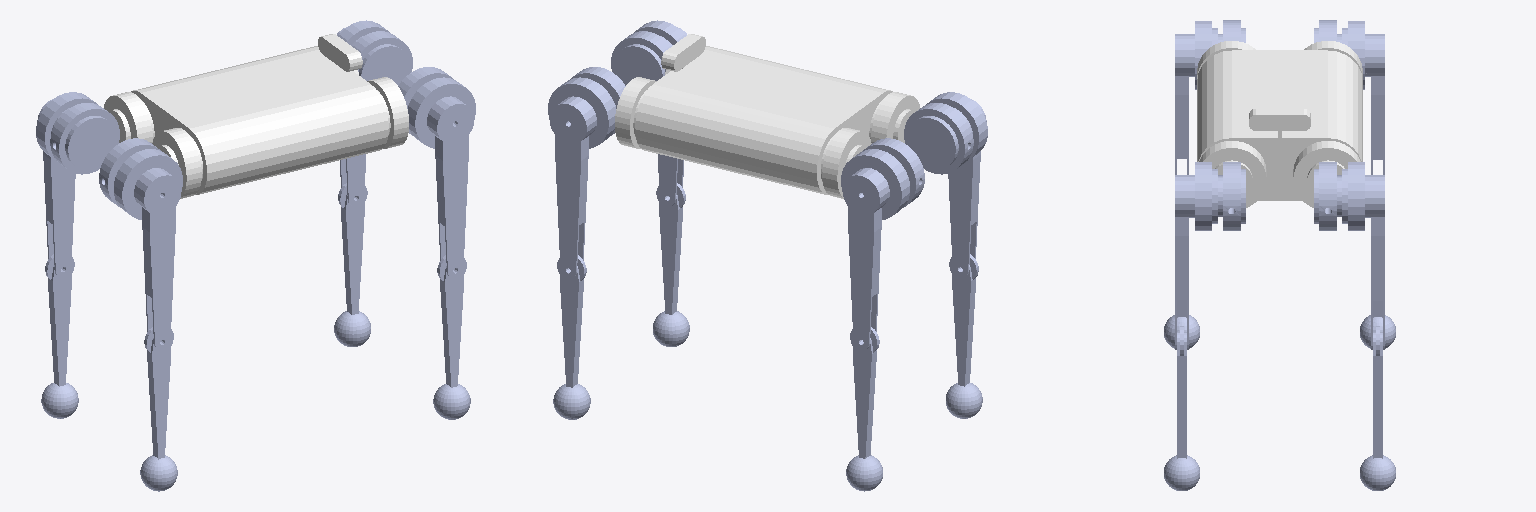
--- Render facts (derived) ---
3 views of the same robot in one strip: view 1: azimuth 30°, elevation 25°; view 2: azimuth 150°, elevation 25°; view 3: azimuth 270°, elevation 25° (orthographic).
Model quadruped with 17 links and 16 joints (12 continuous, 4 fixed), rooted at base_link, posed all joints at 0.
Links seen in each view (by area): view 1: base_link, RbL2, RfL2, LbL2, LbL1, LfL1, RfL3, RbL3, LbL3, LfL3, LfL2, LfL4 (+5 smaller); view 2: base_link, LbL2, LfL2, RbL2, RbL1, RfL1, LbL3, RbL3, RfL3, LfL4, RfL2, LfL3 (+5 smaller); view 3: base_link, LfL2, RfL2, LbL2, RbL2, RfL1, LfL1, LfL3, RfL3, RfL4, LfL4, RbL4 (+1 smaller).
Boxes of the visible links, box(x1,y1,x2,y2) form: base_link: box(104, 34, 408, 198); RbL2: box(114, 149, 182, 350); RfL2: box(408, 77, 475, 278); LbL2: box(36, 92, 97, 277); LbL1: box(50, 103, 119, 174); LfL1: box(352, 31, 412, 85); RfL3: box(434, 263, 469, 419); RbL3: box(141, 330, 176, 491); LbL3: box(42, 260, 77, 418); LfL3: box(334, 186, 370, 346); LfL2: box(337, 20, 389, 205); LfL4: box(334, 183, 370, 337); base_link: box(615, 34, 919, 198); LbL2: box(841, 149, 909, 350); LfL2: box(548, 77, 615, 278); RbL2: box(926, 92, 987, 277); RbL1: box(904, 103, 973, 174); RfL1: box(611, 31, 671, 85); LbL3: box(847, 331, 882, 491); RbL3: box(946, 257, 981, 418); RfL3: box(653, 186, 688, 346); LfL4: box(553, 255, 590, 410); RfL2: box(634, 20, 686, 205); LfL3: box(553, 259, 589, 419); base_link: box(1197, 41, 1362, 207); LfL2: box(1342, 162, 1384, 349); RfL2: box(1175, 162, 1217, 349); LbL2: box(1342, 21, 1384, 174); RbL2: box(1175, 21, 1217, 174); RfL1: box(1218, 162, 1245, 230); LfL1: box(1314, 162, 1341, 230); LfL3: box(1360, 350, 1395, 490); RfL3: box(1164, 350, 1199, 490); RfL4: box(1164, 326, 1199, 481); LfL4: box(1360, 326, 1395, 481); RbL4: box(1164, 315, 1199, 339).
Bounding box of the posed robot: 0.545 × 0.3142 × 0.519 m (x, y, z).
Meshes: 17 distinct files referenced, 17 mesh visuals loaded (17 binary STL).

The robot description file, URDF, robot "quadruped":
<?xml version="1.0" encoding="utf-8"?>
<!-- This URDF was automatically created by SolidWorks to URDF Exporter! Originally created by Stephen Brawner ([email redacted]) 
     Commit Version: 1.6.0-4-g7f85cfe  Build Version: 1.6.7995.38578
     For more information, please see http://wiki.ros.org/sw_urdf_exporter -->
<robot
  name="quadruped">
  <link
    name="base_link">
    <inertial>
      <origin
        xyz="0.00084087 -3.4694E-18 0.0034489"
        rpy="0 0 0" />
      <mass
        value="16" />
      <inertia
        ixx="1"  
        ixy="0"
        ixz="0"
        iyy="1"
        iyz="0"
        izz="1" />
    </inertial>
    <visual>
      <origin
        xyz="0 0 0"
        rpy="0 0 0" />
      <geometry>
        <mesh
          filename="package://quadruped/meshes/base_link.STL" />
      </geometry>
      <material
        name="">
        <color
          rgba="1 1 1 1" />
      </material>
    </visual>
    <collision>
      <origin
        xyz="0 0 0"
        rpy="0 0 0" />
      <geometry>
        <mesh
          filename="package://quadruped/meshes/base_link.STL" />
      </geometry>
    </collision>
  </link>
  <link
    name="RfL1">
    <inertial>
      <origin
        xyz="-1.4632E-09 0.0013606 -2.1089E-09"
        rpy="0 0 0" />
      <mass
        value="0.2020892" />
      <inertia
        ixx="0.2"
        ixy="0"
        ixz="0"
        iyy="0.2"
        iyz="0"
        izz="0.2" />
    </inertial>
    <visual>
      <origin
        xyz="0 0 0"
        rpy="0 0 0" />
      <geometry>
        <mesh
          filename="package://quadruped/meshes/RfL1.STL" />
      </geometry>
      <material
        name="">
        <color
          rgba="0.79216 0.81961 0.93333 1" />
      </material>
    </visual>
    <collision>
      <origin
        xyz="0 0 0"
        rpy="0 0 0" />
      <geometry>
        <mesh
          filename="package://quadruped/meshes/RfL1.STL" />
      </geometry>
    </collision>
  </link>
  <joint
    name="RfJ1"
    type="continuous">
    <origin
      xyz="0.2255 -0.065 0.003"
      rpy="0 0 0" />
    <parent
      link="base_link" />
    <child
      link="RfL1" />
    <axis
      xyz="1 0 0" />
          <limit
      lower="-6"
      upper="6"
      effort="100"
      velocity="10" />
                 <dynamics
      damping="1"
       friction="0.01"
    />
  </joint>
  <link
    name="RfL2">
    <inertial>
      <origin
        xyz="-4.3615E-06 0.017625 -0.026198"
        rpy="0 0 0" />
      <mass
        value="0.203684" />
      <inertia
        ixx="0.2"
        ixy="0"
        ixz="0"
        iyy="0.2"
        iyz="0"
        izz="0.2" />
    </inertial>
    <visual>
      <origin
        xyz="0 0 0"
        rpy="0 0 0" />
      <geometry>
        <mesh
          filename="package://quadruped/meshes/RfL2.STL" />
      </geometry>
      <material
        name="">
        <color
          rgba="0.79216 0.81961 0.93333 1" />
      </material>
    </visual>
    <collision>
      <origin
        xyz="0 0 0"
        rpy="0 0 0" />
      <geometry>
        <mesh
          filename="package://quadruped/meshes/RfL2.STL" />
      </geometry>
    </collision>
  </link>
  <joint
    name="RfJ2"
    type="continuous">
    <origin
      xyz="0 -0.06725 0"
      rpy="0 0 0" />
    <parent
      link="RfL1" />
    <child
      link="RfL2" />
    <axis
      xyz="0 1 0" />
          <limit
      lower="-6"
      upper="6"
      effort="100"
      velocity="10" />
                 <dynamics
      damping="1"
       friction="0.01"
    />
  </joint>
  <link
    name="RfL3">
    <inertial>
      <origin
        xyz="-8.3225E-05 -1.7847E-14 -0.13449"
        rpy="0 0 0" />
      <mass
        value="0.2012147" />
      <inertia
        ixx="0.2"
        ixy="0"
        ixz="0"
        iyy="0.2"
        iyz="0"
        izz="0.2" />
    </inertial>
    <visual>
      <origin
        xyz="0 0 0"
        rpy="0 0 0" />
      <geometry>
        <mesh
          filename="package://quadruped/meshes/RfL3.STL" />
      </geometry>
      <material
        name="">
        <color
          rgba="0.79216 0.81961 0.93333 1" />
      </material>
    </visual>
    <collision>
      <origin
        xyz="0 0 0"
        rpy="0 0 0" />
      <geometry>
        <mesh
          filename="package://quadruped/meshes/RfL3.STL" />
      </geometry>
    </collision>
  </link>
  <joint
    name="RfJ3"
    type="continuous">
    <origin
      xyz="0 0 -0.216"
      rpy="0 0 0" />
    <parent
      link="RfL2" />
    <child
      link="RfL3" />
    <axis
      xyz="0 -1 0" />
          <limit
      lower="-6"
      upper="6"
      effort="100"
      velocity="10" />
                 <dynamics
      damping="1"
       friction="0.01"
    />
  </joint>
  <link
    name="RfL4">
    <inertial>
      <origin
        xyz="3.8349E-05 -1.7777E-14 0.061968"
        rpy="0 0 0" />
      <mass
        value="0.2012147" />
      <inertia
        ixx="0.2"
        ixy="0"
        ixz="0"
        iyy="0.2"
        iyz="0"
        izz="0.2" />
    </inertial>
    <visual>
      <origin
        xyz="0 0 0"
        rpy="0 0 0" />
      <geometry>
        <mesh
          filename="package://quadruped/meshes/RfL4.STL" />
      </geometry>
      <material
        name="">
        <color
          rgba="0.79216 0.81961 0.93333 1" />
      </material>
    </visual>
    <collision>
      <origin
        xyz="0 0 0"
        rpy="0 0 0" />
      <geometry>
        <mesh
          filename="package://quadruped/meshes/RfL4.STL" />
      </geometry>
    </collision>
  </link>
  <joint
    name="RfJ4"
    type="fixed">
    <origin
      xyz="-0.00012157 0 -0.19645"
      rpy="0 0 0" />
    <parent
      link="RfL3" />
    <child
      link="RfL4" />
    <axis
      xyz="0 0 0" />
          <limit
      lower="-6"
      upper="6"
      effort="100"
      velocity="10" />
                 <dynamics
      damping="1"
       friction="0.01"
    />
  </joint>
  <link
    name="LfL1">
    <inertial>
      <origin
        xyz="-1.4632E-09 -0.0013606 2.1089E-09"
        rpy="0 0 0" />
      <mass
        value="0.2020892" />
      <inertia
        ixx="0.2"
        ixy="0"
        ixz="0"
        iyy="0.2"
        iyz="0"
        izz="0.2" />
    </inertial>
    <visual>
      <origin
        xyz="0 0 0"
        rpy="0 0 0" />
      <geometry>
        <mesh
          filename="package://quadruped/meshes/LfL1.STL" />
      </geometry>
      <material
        name="">
        <color
          rgba="0.79216 0.81961 0.93333 1" />
      </material>
    </visual>
    <collision>
      <origin
        xyz="0 0 0"
        rpy="0 0 0" />
      <geometry>
        <mesh
          filename="package://quadruped/meshes/LfL1.STL" />
      </geometry>
    </collision>
  </link>
  <joint
    name="LfJ1"
    type="continuous">
    <origin
      xyz="0.2255 0.065 0.003"
      rpy="0 0 0" />
    <parent
      link="base_link" />
    <child
      link="LfL1" />
    <axis
      xyz="1 0 0" />
          <limit
      lower="-6"
      upper="6"
      effort="100"
      velocity="10" />
                 <dynamics
      damping="1"
       friction="0.01"
    />
  </joint>
  <link
    name="LfL2">
    <inertial>
      <origin
        xyz="4.3615E-06 -0.017625 -0.026198"
        rpy="0 0 0" />
      <mass
        value="0.203684" />
      <inertia
        ixx="0.2"
        ixy="0"
        ixz="0"
        iyy="0.2"
        iyz="0"
        izz="0.2" />
    </inertial>
    <visual>
      <origin
        xyz="0 0 0"
        rpy="0 0 0" />
      <geometry>
        <mesh
          filename="package://quadruped/meshes/LfL2.STL" />
      </geometry>
      <material
        name="">
        <color
          rgba="0.79216 0.81961 0.93333 1" />
      </material>
    </visual>
    <collision>
      <origin
        xyz="0 0 0"
        rpy="0 0 0" />
      <geometry>
        <mesh
          filename="package://quadruped/meshes/LfL2.STL" />
      </geometry>
    </collision>
  </link>
  <joint
    name="LfJ2"
    type="continuous">
    <origin
      xyz="0 0.06725 0"
      rpy="0 0 0" />
    <parent
      link="LfL1" />
    <child
      link="LfL2" />
    <axis
      xyz="0 -1 0" />
          <limit
      lower="-6"
      upper="6"
      effort="100"
      velocity="10" />
                 <dynamics
      damping="1"
       friction="0.01"
    />
  </joint>
  <link
    name="LfL3">
    <inertial>
      <origin
        xyz="-0.00015249 -3.3556E-14 -0.13449"
        rpy="0 0 0" />
      <mass
        value="0.2012147" />
      <inertia
        ixx="0.2"
        ixy="0"
        ixz="0"
        iyy="0.2"
        iyz="0"
        izz="0.2" />
    </inertial>
    <visual>
      <origin
        xyz="0 0 0"
        rpy="0 0 0" />
      <geometry>
        <mesh
          filename="package://quadruped/meshes/LfL3.STL" />
      </geometry>
      <material
        name="">
        <color
          rgba="0.79216 0.81961 0.93333 1" />
      </material>
    </visual>
    <collision>
      <origin
        xyz="0 0 0"
        rpy="0 0 0" />
      <geometry>
        <mesh
          filename="package://quadruped/meshes/LfL3.STL" />
      </geometry>
    </collision>
  </link>
  <joint
    name="LfJ3"
    type="continuous">
    <origin
      xyz="0 0 -0.216"
      rpy="0 0 0" />
    <parent
      link="LfL2" />
    <child
      link="LfL3" />
    <axis
      xyz="0 1 0" />
          <limit
      lower="-6"
      upper="6"
      effort="100"
      velocity="10" />
                 <dynamics
      damping="1"
       friction="0.01"
    />
  </joint>
  <link
    name="LfL4">
    <inertial>
      <origin
        xyz="7.0263E-05 -3.2113E-14 0.061968"
        rpy="0 0 0" />
      <mass
        value="0.2012147" />
      <inertia
        ixx="0.2"
        ixy="0"
        ixz="0"
        iyy="0.2"
        iyz="0"
        izz="0.2" />
    </inertial>
    <visual>
      <origin
        xyz="0 0 0"
        rpy="0 0 0" />
      <geometry>
        <mesh
          filename="package://quadruped/meshes/LfL4.STL" />
      </geometry>
      <material
        name="">
        <color
          rgba="0.79216 0.81961 0.93333 1" />
      </material>
    </visual>
    <collision>
      <origin
        xyz="0 0 0"
        rpy="0 0 0" />
      <geometry>
        <mesh
          filename="package://quadruped/meshes/LfL4.STL" />
      </geometry>
    </collision>
  </link>
  <joint
    name="LfJ4"
    type="fixed">
    <origin
      xyz="-0.00022275 0 -0.19645"
      rpy="0 0 0" />
    <parent
      link="LfL3" />
    <child
      link="LfL4" />
    <axis
      xyz="0 0 0" />
          <limit
      lower="-6"
      upper="6"
      effort="100"
      velocity="10" />
                 <dynamics
      damping="1"
       friction="0.01"
    />
  </joint>
  <link
    name="RbL1">
    <inertial>
      <origin
        xyz="1.4632E-09 0.0013606 2.1089E-09"
        rpy="0 0 0" />
      <mass
        value="0.2020892" />
      <inertia
        ixx="0.2"
        ixy="0"
        ixz="0"
        iyy="0.2"
        iyz="0"
        izz="0.2" />
    </inertial>
    <visual>
      <origin
        xyz="0 0 0"
        rpy="0 0 0" />
      <geometry>
        <mesh
          filename="package://quadruped/meshes/RbL1.STL" />
      </geometry>
      <material
        name="">
        <color
          rgba="0.79216 0.81961 0.93333 1" />
      </material>
    </visual>
    <collision>
      <origin
        xyz="0 0 0"
        rpy="0 0 0" />
      <geometry>
        <mesh
          filename="package://quadruped/meshes/RbL1.STL" />
      </geometry>
    </collision>
  </link>
  <joint
    name="RbJ1"
    type="continuous">
    <origin
      xyz="-0.2255 -0.065 0.003"
      rpy="0 0 0" />
    <parent
      link="base_link" />
    <child
      link="RbL1" />
    <axis
      xyz="-1 0 0" />
          <limit
      lower="-6"
      upper="6"
      effort="100"
      velocity="10" />
                 <dynamics
      damping="1"
       friction="0.01"
    />
  </joint>
  <link
    name="RbL2">
    <inertial>
      <origin
        xyz="-4.3615E-06 0.017625 -0.026198"
        rpy="0 0 0" />
      <mass
        value="0.203684" />
      <inertia
        ixx="0.2"
        ixy="0"
        ixz="0"
        iyy="0.2"
        iyz="0"
        izz="0.2" />
    </inertial>
    <visual>
      <origin
        xyz="0 0 0"
        rpy="0 0 0" />
      <geometry>
        <mesh
          filename="package://quadruped/meshes/RbL2.STL" />
      </geometry>
      <material
        name="">
        <color
          rgba="0.79216 0.81961 0.93333 1" />
      </material>
    </visual>
    <collision>
      <origin
        xyz="0 0 0"
        rpy="0 0 0" />
      <geometry>
        <mesh
          filename="package://quadruped/meshes/RbL2.STL" />
      </geometry>
    </collision>
  </link>
  <joint
    name="RbJ2"
    type="continuous">
    <origin
      xyz="0 -0.06725 0"
      rpy="0 0 0" />
    <parent
      link="RbL1" />
    <child
      link="RbL2" />
    <axis
      xyz="0 1 0" />
          <limit
      lower="-6"
      upper="6"
      effort="100"
      velocity="10" />
                 <dynamics
      damping="1"
       friction="0.01"
    />
  </joint>
  <link
    name="RbL3">
    <inertial>
      <origin
        xyz="-4.4688E-05 -9.4924E-15 -0.13449"
        rpy="0 0 0" />
      <mass
        value="0.2012147" />
      <inertia
        ixx="0.2"
        ixy="0"
        ixz="0"
        iyy="0.2"
        iyz="0"
        izz="0.2" />
    </inertial>
    <visual>
      <origin
        xyz="0 0 0"
        rpy="0 0 0" />
      <geometry>
        <mesh
          filename="package://quadruped/meshes/RbL3.STL" />
      </geometry>
      <material
        name="">
        <color
          rgba="0.79216 0.81961 0.93333 1" />
      </material>
    </visual>
    <collision>
      <origin
        xyz="0 0 0"
        rpy="0 0 0" />
      <geometry>
        <mesh
          filename="package://quadruped/meshes/RbL3.STL" />
      </geometry>
    </collision>
  </link>
  <joint
    name="RbJ3"
    type="continuous">
    <origin
      xyz="0 0 -0.216"
      rpy="0 0 0" />
    <parent
      link="RbL2" />
    <child
      link="RbL3" />
    <axis
      xyz="0 -1 0" />
          <limit
      lower="-6"
      upper="6"
      effort="100"
      velocity="10" />
                 <dynamics
      damping="1"
       friction="0.01"
    />
  </joint>
  <link
    name="RbL4">
    <inertial>
      <origin
        xyz="2.0591E-05 -9.5618E-15 0.061968"
        rpy="0 0 0" />
      <mass
        value="0.2012147" />
      <inertia
        ixx="0.2"
        ixy="0"
        ixz="0"
        iyy="0.2"
        iyz="0"
        izz="0.2" />
    </inertial>
    <visual>
      <origin
        xyz="0 0 0"
        rpy="0 0 0" />
      <geometry>
        <mesh
          filename="package://quadruped/meshes/RbL4.STL" />
      </geometry>
      <material
        name="">
        <color
          rgba="0.79216 0.81961 0.93333 1" />
      </material>
    </visual>
    <collision>
      <origin
        xyz="0 0 0"
        rpy="0 0 0" />
      <geometry>
        <mesh
          filename="package://quadruped/meshes/RbL4.STL" />
      </geometry>
    </collision>
  </link>
  <joint
    name="RbJ4"
    type="fixed">
    <origin
      xyz="-6.528E-05 0 -0.19645"
      rpy="0 0 0" />
    <parent
      link="RbL3" />
    <child
      link="RbL4" />
    <axis
      xyz="0 0 0" />
          <limit
      lower="-6"
      upper="6"
      effort="100"
      velocity="10" />
                 <dynamics
      damping="1"
       friction="0.01"
    />
  </joint>
  <link
    name="LbL1">
    <inertial>
      <origin
        xyz="1.4632E-09 -0.0013606 -2.1089E-09"
        rpy="0 0 0" />
      <mass
        value="0.2020892" />
      <inertia
        ixx="0.2"
        ixy="0"
        ixz="0"
        iyy="0.2"
        iyz="0"
        izz="0.2" />
    </inertial>
    <visual>
      <origin
        xyz="0 0 0"
        rpy="0 0 0" />
      <geometry>
        <mesh
          filename="package://quadruped/meshes/LbL1.STL" />
      </geometry>
      <material
        name="">
        <color
          rgba="0.79216 0.81961 0.93333 1" />
      </material>
    </visual>
    <collision>
      <origin
        xyz="0 0 0"
        rpy="0 0 0" />
      <geometry>
        <mesh
          filename="package://quadruped/meshes/LbL1.STL" />
      </geometry>
    </collision>
  </link>
  <joint
    name="LbJ1"
    type="continuous">
    <origin
      xyz="-0.2255 0.065 0.003"
      rpy="0 0 0" />
    <parent
      link="base_link" />
    <child
      link="LbL1" />
    <axis
      xyz="-1 0 0" />
          <limit
      lower="-6"
      upper="6"
      effort="100"
      velocity="10" />
                 <dynamics
      damping="1"
       friction="0.01"
    />
  </joint>
  <link
    name="LbL2">
    <inertial>
      <origin
        xyz="4.3615E-06 -0.017625 -0.026198"
        rpy="0 0 0" />
      <mass
        value="0.203684" />
      <inertia
        ixx="0.2"
        ixy="0"
        ixz="0"
        iyy="0.2"
        iyz="0"
        izz="0.2" />
    </inertial>
    <visual>
      <origin
        xyz="0 0 0"
        rpy="0 0 0" />
      <geometry>
        <mesh
          filename="package://quadruped/meshes/LbL2.STL" />
      </geometry>
      <material
        name="">
        <color
          rgba="0.79216 0.81961 0.93333 1" />
      </material>
    </visual>
    <collision>
      <origin
        xyz="0 0 0"
        rpy="0 0 0" />
      <geometry>
        <mesh
          filename="package://quadruped/meshes/LbL2.STL" />
      </geometry>
    </collision>
  </link>
  <joint
    name="LbJ2"
    type="continuous">
    <origin
      xyz="0 0.06725 0"
      rpy="0 0 0" />
    <parent
      link="LbL1" />
    <child
      link="LbL2" />
    <axis
      xyz="0 -1 0" />
                <limit
      lower="-6"
      upper="6"
      effort="100"
      velocity="10" />
                 <dynamics
      damping="1"
       friction="0.01"
    />
  </joint>
  <link
    name="LbL3">
    <inertial>
      <origin
        xyz="0.00011183 2.3037E-14 -0.13449"
        rpy="0 0 0" />
      <mass
        value="0.2012147" />
      <inertia
        ixx="0.2"
        ixy="0"
        ixz="0"
        iyy="0.2"
        iyz="0"
        izz="0.2" />
    </inertial>
    <visual>
      <origin
        xyz="0 0 0"
        rpy="0 0 0" />
      <geometry>
        <mesh
          filename="package://quadruped/meshes/LbL3.STL" />
      </geometry>
      <material
        name="">
        <color
          rgba="0.79216 0.81961 0.93333 1" />
      </material>
    </visual>
    <collision>
      <origin
        xyz="0 0 0"
        rpy="0 0 0" />
      <geometry>
        <mesh
          filename="package://quadruped/meshes/LbL3.STL" />
      </geometry>
    </collision>
  </link>
  <joint
    name="LbJ3"
    type="continuous">
    <origin
      xyz="0 0 -0.216"
      rpy="0 0 0" />
    <parent
      link="LbL2" />
    <child
      link="LbL3" />
    <axis
      xyz="0 1 0" />
                <limit
      lower="-6"
      upper="6"
      effort="100"
      velocity="10" />
                 <dynamics
      damping="1"
       friction="0.01"
    />
  </joint>
  <link
    name="LbL4">
    <inertial>
      <origin
        xyz="-5.1528E-05 2.4342E-14 0.061968"
        rpy="0 0 0" />
      <mass
        value="0.2012147" />
      <inertia
        ixx="0.2"
        ixy="0"
        ixz="0"
        iyy="0.2"
        iyz="0"
        izz="0.2" />
    </inertial>
    <visual>
      <origin
        xyz="0 0 0"
        rpy="0 0 0" />
      <geometry>
        <mesh
          filename="package://quadruped/meshes/LbL4.STL" />
      </geometry>
      <material
        name="">
        <color
          rgba="0.79216 0.81961 0.93333 1" />
      </material>
    </visual>
    <collision>
      <origin
        xyz="0 0 0"
        rpy="0 0 0" />
      <geometry>
        <mesh
          filename="package://quadruped/meshes/LbL4.STL" />
      </geometry>
    </collision>
  </link>
  <joint
    name="LbJ4"
    type="fixed">
    <origin
      xyz="0.00016336 0 -0.19645"
      rpy="0 0 0" />
    <parent
      link="LbL3" />
    <child
      link="LbL4" />
    <axis
      xyz="0 0 0" />
          <limit
      lower="-6"
      upper="6"
      effort="100"
      velocity="10" />
                 <dynamics
      damping="1"
       friction="0.01"
    />
  </joint>

<transmission name="trans_RfJ1">
        <type>transmission_interface/SimpleTransmission</type>
        <joint name="RfJ1">
            <hardwareInterface>hardware_interface/EffortJointInterface</hardwareInterface>
        </joint>
        <actuator name="RfJ1_motor">
            <hardwareInterface>hardware_interface/EffortJointInterface</hardwareInterface>
            <mechanicalReduction>1</mechanicalReduction>
        </actuator>
    </transmission>

<transmission name="trans_RfJ2">
        <type>transmission_interface/SimpleTransmission</type>
        <joint name="RfJ2">
            <hardwareInterface>hardware_interface/EffortJointInterface</hardwareInterface>
        </joint>
        <actuator name="RfJ2_motor">
            <hardwareInterface>hardware_interface/EffortJointInterface</hardwareInterface>
            <mechanicalReduction>1</mechanicalReduction>
        </actuator>
    </transmission>

<transmission name="trans_RfJ3">
        <type>transmission_interface/SimpleTransmission</type>
        <joint name="RfJ3">
            <hardwareInterface>hardware_interface/EffortJointInterface</hardwareInterface>
        </joint>
        <actuator name="RfJ3_motor">
            <hardwareInterface>hardware_interface/EffortJointInterface</hardwareInterface>
            <mechanicalReduction>1</mechanicalReduction>
        </actuator>
    </transmission>

<transmission name="trans_RbJ1">
        <type>transmission_interface/SimpleTransmission</type>
        <joint name="RbJ1">
            <hardwareInterface>hardware_interface/EffortJointInterface</hardwareInterface>
        </joint>
        <actuator name="RbJ1_motor">
            <hardwareInterface>hardware_interface/EffortJointInterface</hardwareInterface>
            <mechanicalReduction>1</mechanicalReduction>
        </actuator>
    </transmission>

<transmission name="trans_RbJ2">
        <type>transmission_interface/SimpleTransmission</type>
        <joint name="RbJ2">
            <hardwareInterface>hardware_interface/EffortJointInterface</hardwareInterface>
        </joint>
        <actuator name="RbJ2_motor">
            <hardwareInterface>hardware_interface/EffortJointInterface</hardwareInterface>
            <mechanicalReduction>1</mechanicalReduction>
        </actuator>
    </transmission>

<transmission name="trans_RbJ3">
        <type>transmission_interface/SimpleTransmission</type>
        <joint name="RbJ3">
            <hardwareInterface>hardware_interface/EffortJointInterface</hardwareInterface>
        </joint>
        <actuator name="RbJ3_motor">
            <hardwareInterface>hardware_interface/EffortJointInterface</hardwareInterface>
            <mechanicalReduction>1</mechanicalReduction>
        </actuator>
    </transmission>

<transmission name="trans_LfJ1">
        <type>transmission_interface/SimpleTransmission</type>
        <joint name="LfJ1">
            <hardwareInterface>hardware_interface/EffortJointInterface</hardwareInterface>
        </joint>
        <actuator name="LfJ1_motor">
            <hardwareInterface>hardware_interface/EffortJointInterface</hardwareInterface>
            <mechanicalReduction>1</mechanicalReduction>
        </actuator>
    </transmission>

<transmission name="trans_LfJ2">
        <type>transmission_interface/SimpleTransmission</type>
        <joint name="LfJ2">
            <hardwareInterface>hardware_interface/EffortJointInterface</hardwareInterface>
        </joint>
        <actuator name="LfJ2_motor">
            <hardwareInterface>hardware_interface/EffortJointInterface</hardwareInterface>
            <mechanicalReduction>1</mechanicalReduction>
        </actuator>
    </transmission>

<transmission name="trans_LfJ3">
        <type>transmission_interface/SimpleTransmission</type>
        <joint name="LfJ3">
            <hardwareInterface>hardware_interface/EffortJointInterface</hardwareInterface>
        </joint>
        <actuator name="LfJ3_motor">
            <hardwareInterface>hardware_interface/EffortJointInterface</hardwareInterface>
            <mechanicalReduction>1</mechanicalReduction>
        </actuator>
    </transmission>
  
<transmission name="trans_LbJ1">
        <type>transmission_interface/SimpleTransmission</type>
        <joint name="LbJ1">
            <hardwareInterface>hardware_interface/EffortJointInterface</hardwareInterface>
        </joint>
        <actuator name="LbJ1_motor">
            <hardwareInterface>hardware_interface/EffortJointInterface</hardwareInterface>
            <mechanicalReduction>1</mechanicalReduction>
        </actuator>
    </transmission>

<transmission name="trans_LbJ2">
        <type>transmission_interface/SimpleTransmission</type>
        <joint name="LbJ2">
            <hardwareInterface>hardware_interface/EffortJointInterface</hardwareInterface>
        </joint>
        <actuator name="LbJ2_motor">
            <hardwareInterface>hardware_interface/EffortJointInterface</hardwareInterface>
            <mechanicalReduction>1</mechanicalReduction>
        </actuator>
    </transmission>

<transmission name="trans_LbJ3">
        <type>transmission_interface/SimpleTransmission</type>
        <joint name="LbJ3">
            <hardwareInterface>hardware_interface/EffortJointInterface</hardwareInterface>
        </joint>
        <actuator name="LbJ3_motor">
            <hardwareInterface>hardware_interface/EffortJointInterface</hardwareInterface>
            <mechanicalReduction>1</mechanicalReduction>
        </actuator>
    </transmission>

  <gazebo>
    <plugin name="imu_plugin" filename="libgazebo_ros_imu.so">
  	  <alwaysOn>true</alwaysOn>
    	<bodyName>base_link</bodyName>
    	<topicName>imu</topicName>
    	<serviceName>imu_service</serviceName>
    	<gaussianNoise>0.0</gaussianNoise>
      <xyzOffset>0 0 0</xyzOffset>
      <rpyOffset>0 0 0</rpyOffset>
      <frameName>base_link</frameName>
    	<updateRate>500.0</updateRate>
    </plugin>

    <plugin name="POS_COM" filename="libgazebo_ros_p3d.so">
      <alwaysOn>true</alwaysOn>
      <updateRate>500.0</updateRate>
      <bodyName>base_link</bodyName>
      <topicName>POS_COM</topicName>
      <gaussianNoise>0.0</gaussianNoise>
      <frameName>map</frameName>
      <xyzOffsets>0 0 0</xyzOffsets>
      <rpyOffsets>0 0 0</rpyOffsets>
    </plugin>
  </gazebo>

  <!-- fix the model  -->
  <!-- <link name="world"/>
  <joint name="fix" type="fixed">
  <origin xyz="0 0 0.5" rpy="0 0 0"/>
  <parent link="world"/>
  <child link="base_link"/> 
  </joint> -->

  <gazebo>
        <plugin name="gazebo_ros_control" filename="libgazebo_ros_control.so">
            <robotNamespace>/quadruped</robotNamespace>
            <robotSimType>gazebo_ros_control/DefaultRobotHWSim</robotSimType>
        </plugin>
  </gazebo>

</robot>
